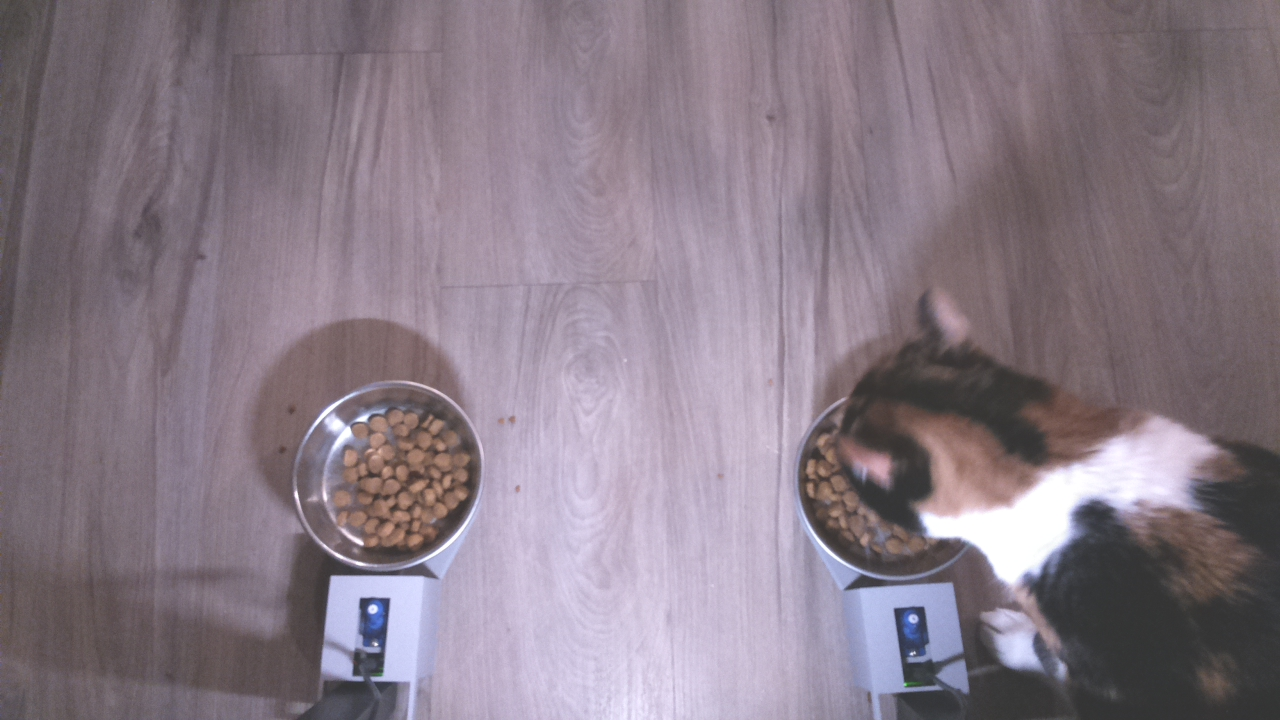bella_eating: (749, 281, 1062, 591)
open_bowl: (287, 377, 489, 580)
